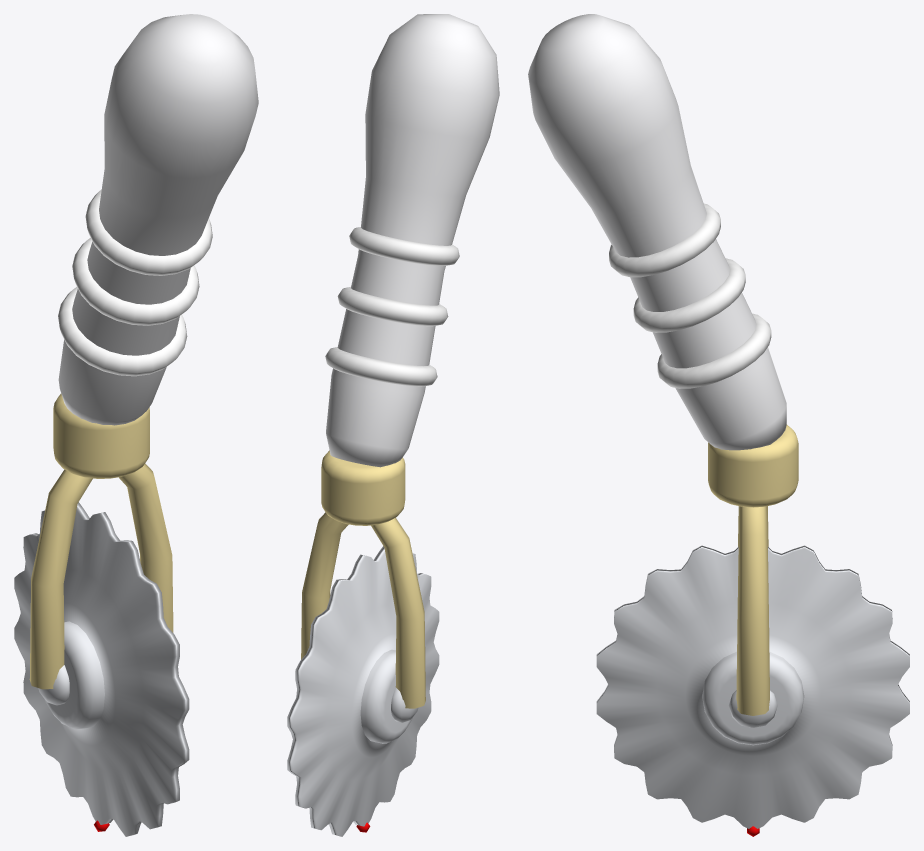
File: PastryCutter.glb
3 renders of one model, left to right at view 1: azimuth 30°, elevation 25°; view 2: azimuth 150°, elevation 25°; view 3: azimuth 270°, elevation 25°, orthographic. The views are drawn at different scales.
Parts seen in each view (by area): view 1: Handle, Wheel, Fork, Bands; view 2: Handle, Wheel, Fork, Bands; view 3: Wheel, Handle, Fork, Bands.
Boxes of the visible parts, x1,y1,x2,y2 form: Handle: [58, 14, 258, 425]; Wheel: [14, 502, 189, 836]; Fork: [29, 393, 173, 689]; Bands: [58, 189, 212, 376]; Handle: [326, 14, 499, 467]; Wheel: [287, 546, 439, 836]; Fork: [301, 450, 425, 708]; Bands: [325, 227, 459, 386]; Wheel: [596, 545, 909, 828]; Handle: [528, 14, 786, 450]; Fork: [708, 424, 798, 715]; Bands: [609, 203, 771, 388].
Size of the model in its own units: 0.8 by 4.77 by 2.02.
